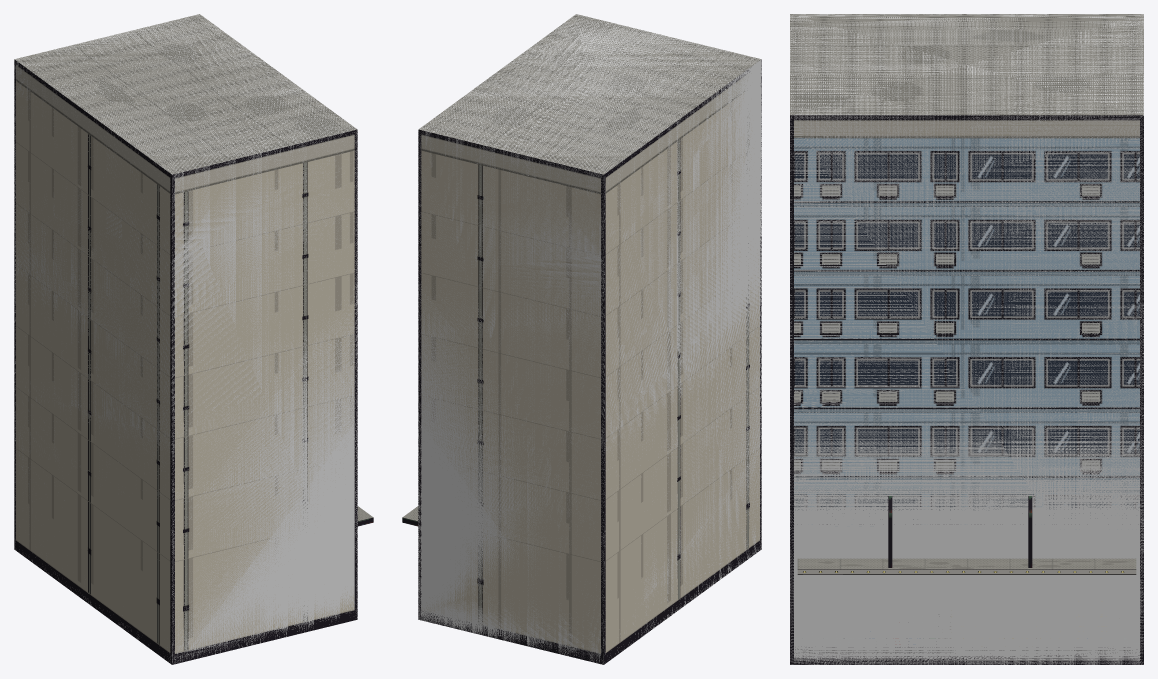
3 renders of one model, left to right at view 1: azimuth 30°, elevation 25°; view 2: azimuth 150°, elevation 25°; view 3: azimuth 270°, elevation 25°, orthographic. The views are drawn at different scales.
Visible parts, largest first — view 1: 19D-W12, COL_19D-W12_0; view 2: 19D-W12, COL_19D-W12_0; view 3: 19D-W12, COL_19D-W12_0.
Boxes of the visible parts, x1,y1,x2,y2 form: 19D-W12: (14,14,373,664); COL_19D-W12_0: (14,14,357,663); 19D-W12: (402,14,761,664); COL_19D-W12_0: (418,14,761,664); 19D-W12: (790,14,1143,664); COL_19D-W12_0: (790,14,1143,664).
Size of the model in its own units: 11.35 by 24 by 14.
1 material, 1 textured.
